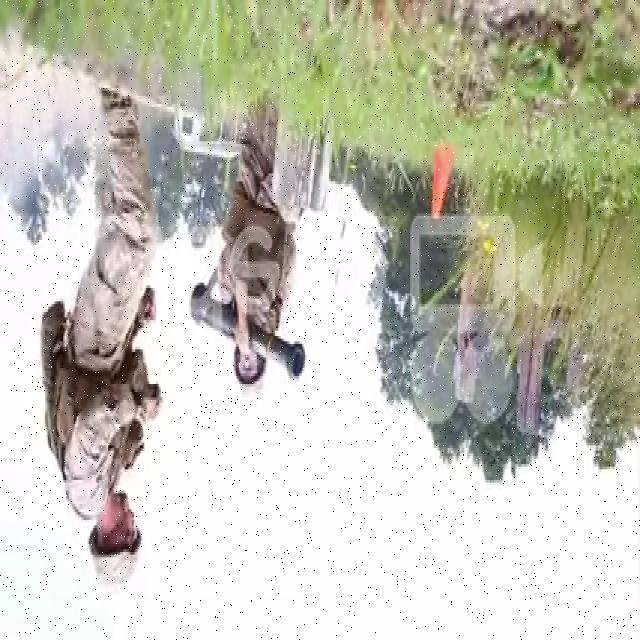bazooka: (189, 274, 310, 391)
